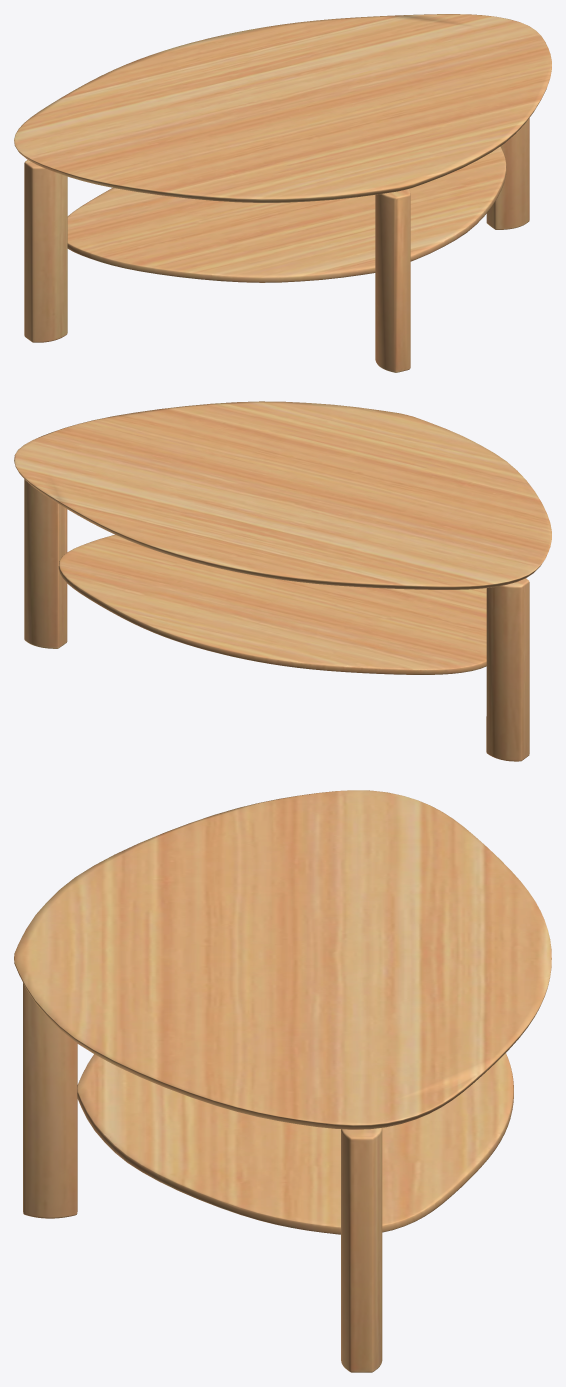
3 renders of one model, top to bottom at view 1: azimuth 30°, elevation 25°; view 2: azimuth 150°, elevation 25°; view 3: azimuth 270°, elevation 25°, orthographic. The views are drawn at different scales.
Parts seen in each view (by area): view 1: B07K7K7GR1; view 2: B07K7K7GR1; view 3: B07K7K7GR1.
Part boxes in pixels (x1,y1,x2,y2): B07K7K7GR1: (14, 14, 551, 372); B07K7K7GR1: (14, 401, 551, 761); B07K7K7GR1: (14, 790, 551, 1372).
Size of the model in its own units: 1.25 by 0.4398 by 0.8454.
1 material, 1 textured.
